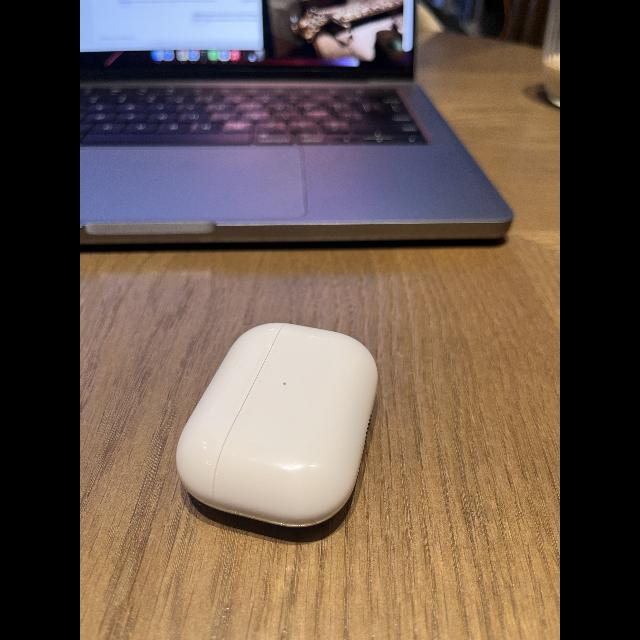AirPods Pro: (170, 316, 382, 542)
